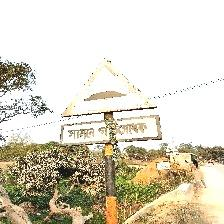Speed-breaker: (55, 55, 162, 145)
